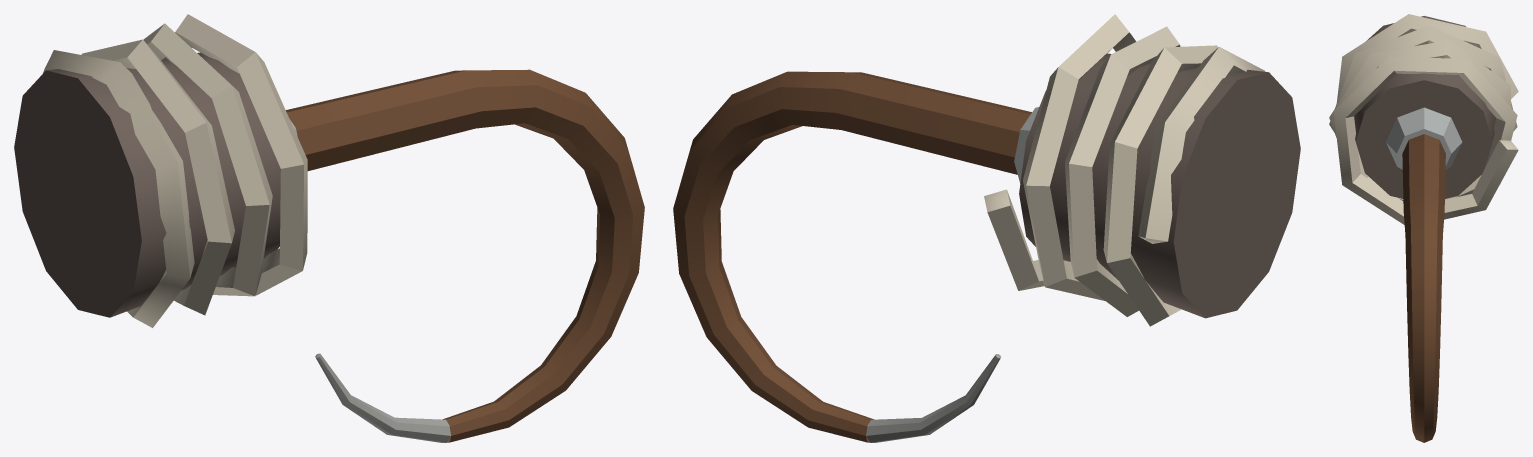
The model's file is butcher_hand_open.glb.
3 renders of one model, left to right at view 1: azimuth 30°, elevation 25°; view 2: azimuth 150°, elevation 25°; view 3: azimuth 270°, elevation 25°, orthographic. The views are drawn at different scales.
Parts seen in each view (by area): view 1: butcher_hand_open; view 2: butcher_hand_open; view 3: butcher_hand_open.
Boxes of the visible parts, bbox=[...] form: butcher_hand_open: bbox=[14, 14, 644, 442]; butcher_hand_open: bbox=[673, 14, 1300, 442]; butcher_hand_open: bbox=[1329, 14, 1518, 442].
Bounding box in the file's own units: 0.3059 × 0.245 × 0.1388.
